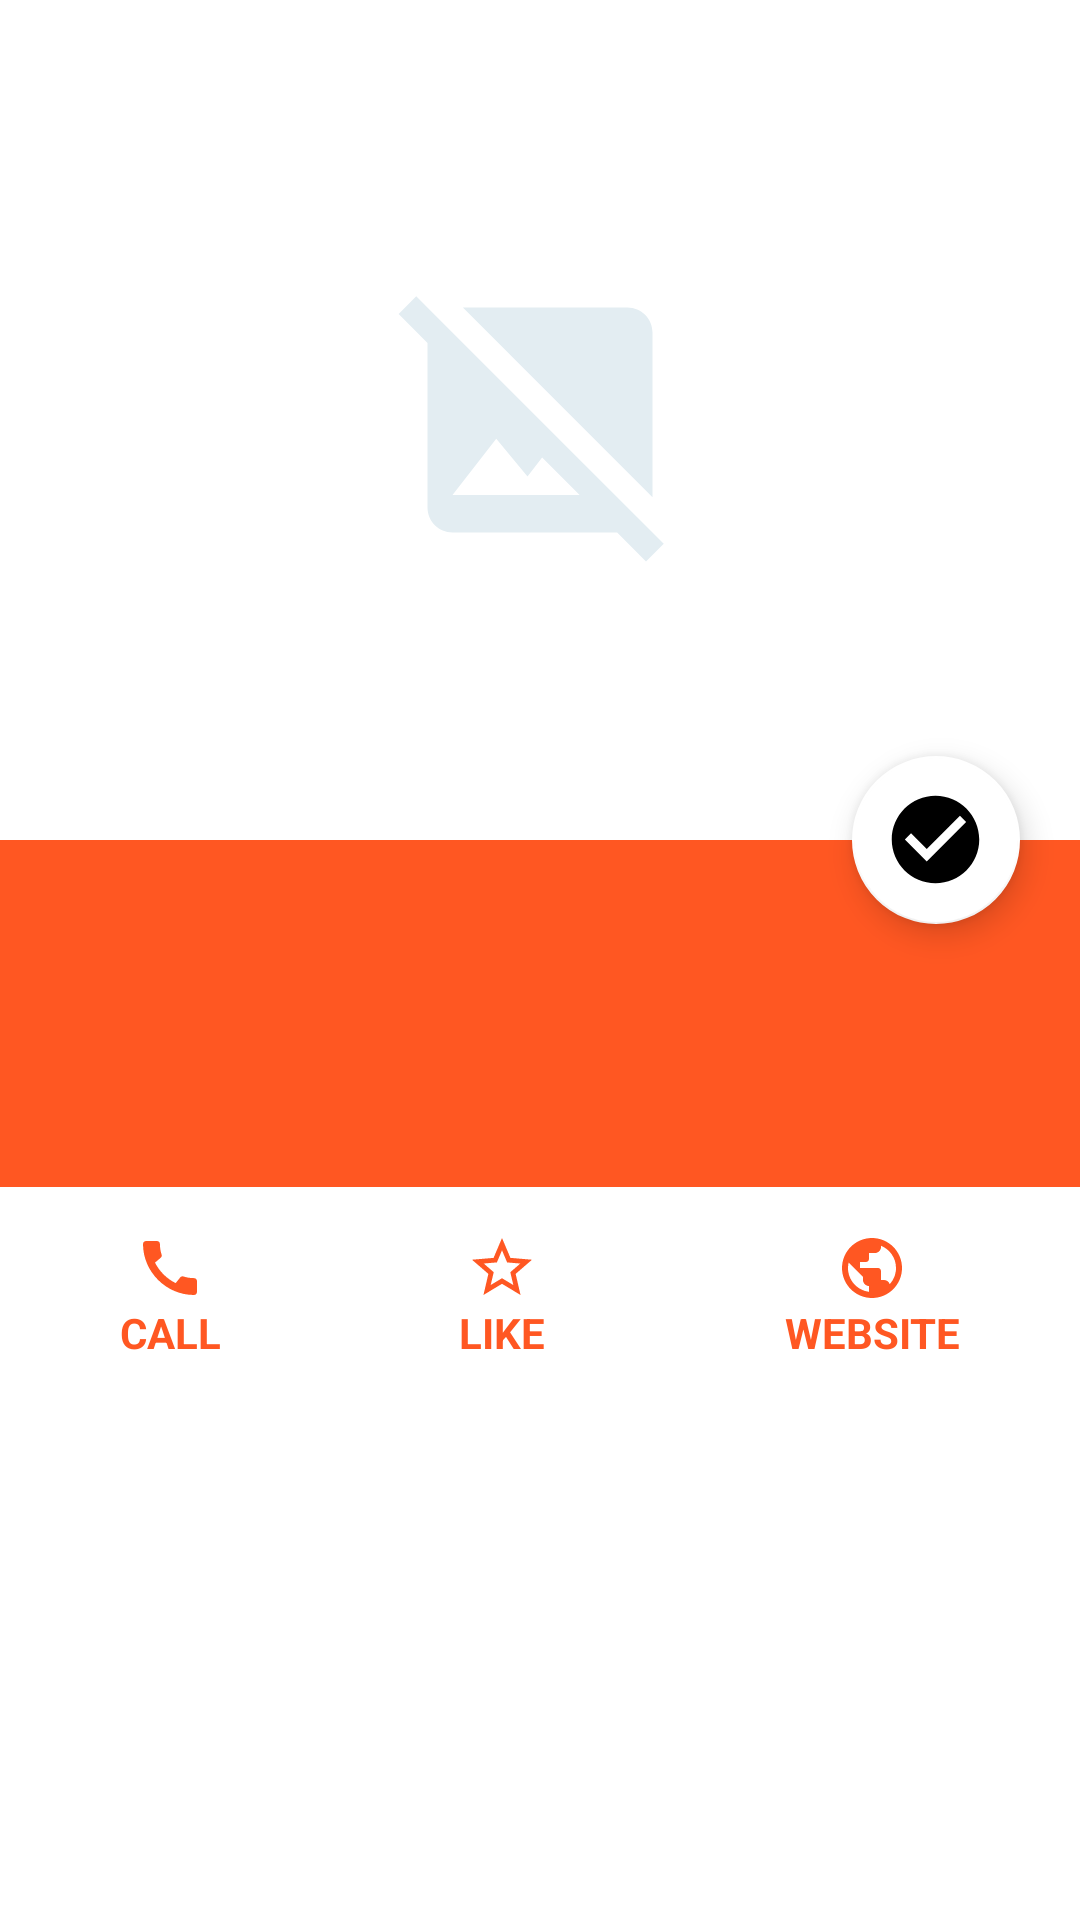

Icon click points for this 1080px×1920px phone screenshot, format [x,y]:
Button to mark the restaurant as selected: [936,840]
